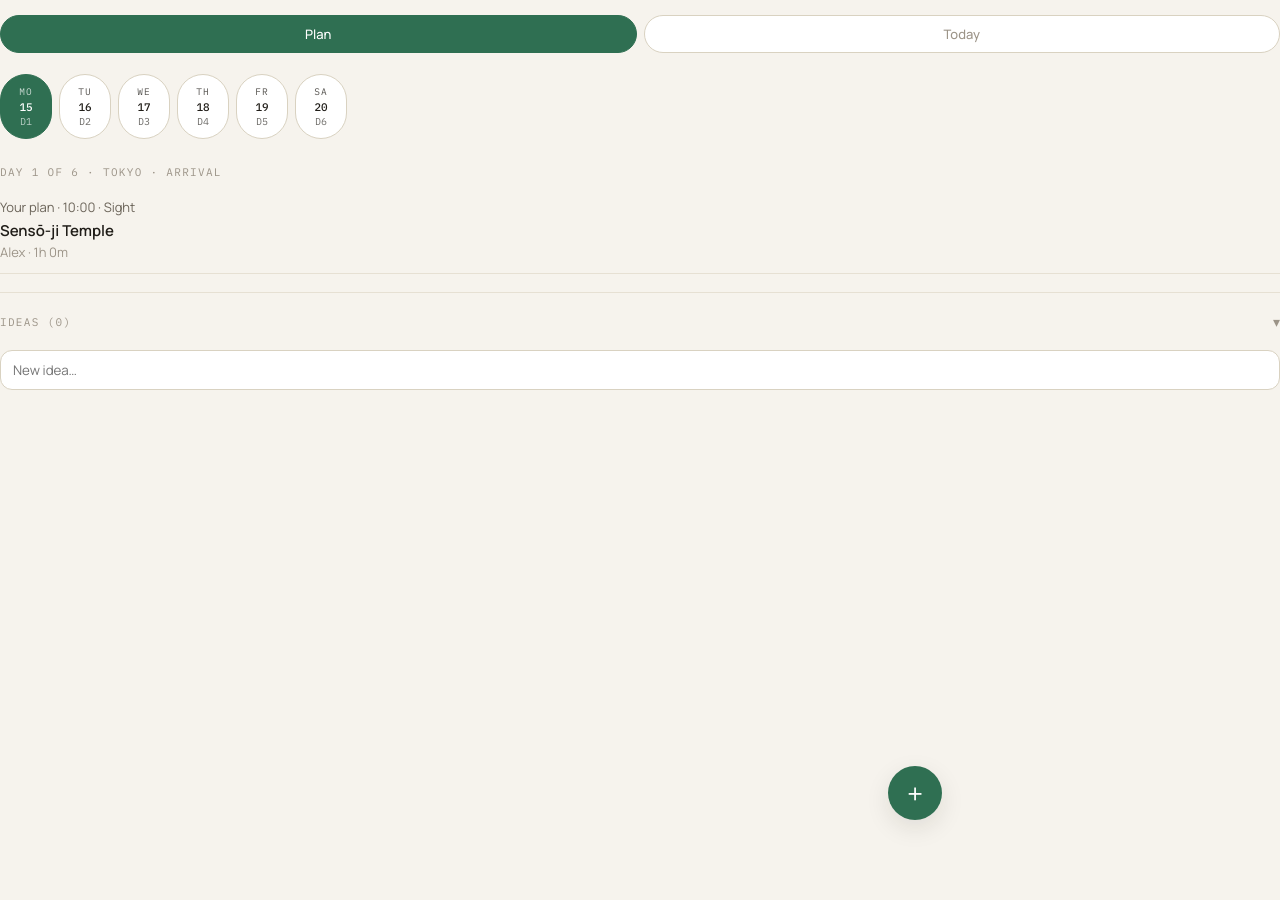
ItineraryTab — View Details › shows travelers as "Everyone" when the stop names none, and by name when it does
Click the button with aria-label "Open Sensō-ji Temple": (31, 207) [0,186,1279,274]
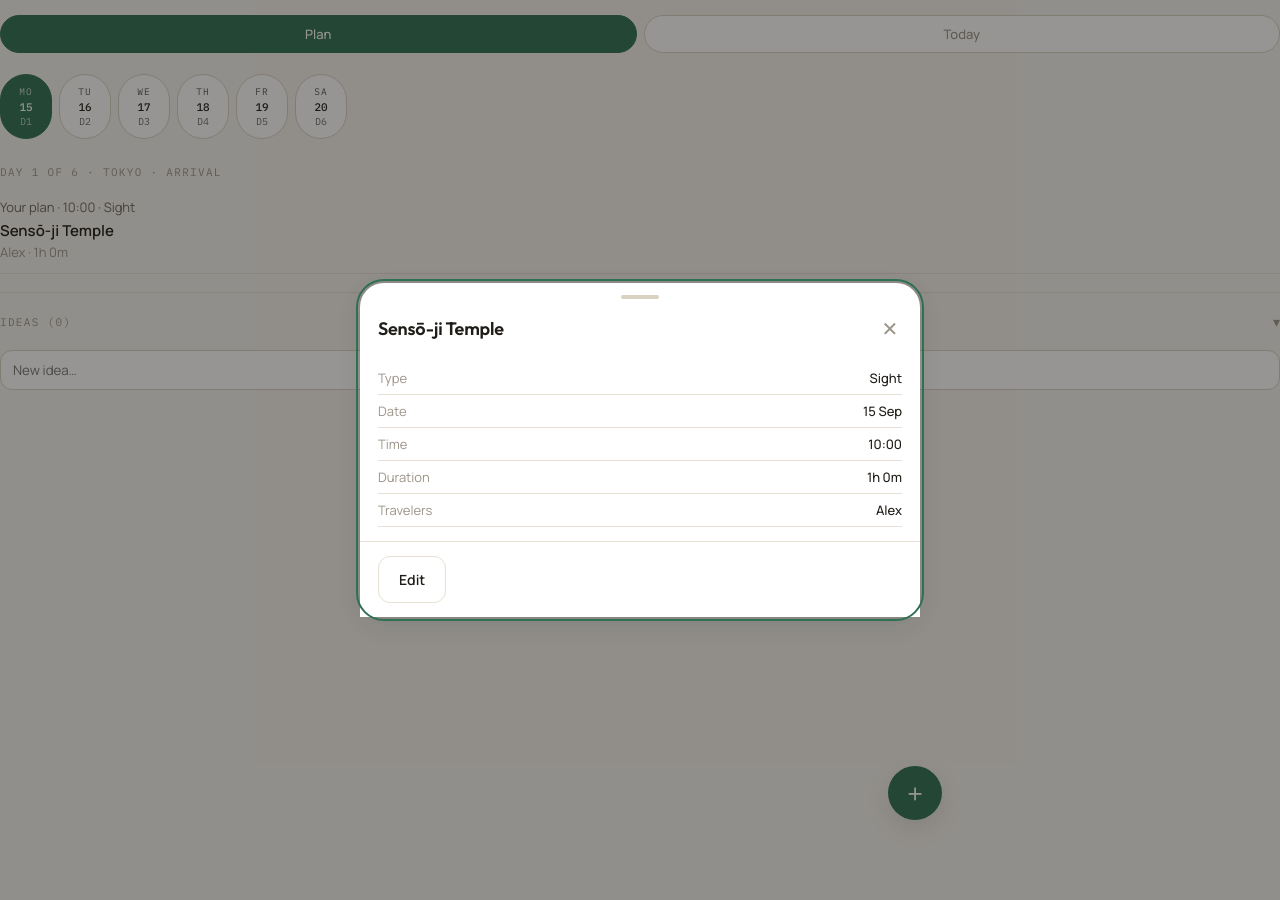
Now the text "Alex" is shown, box [876,501,902,519]
